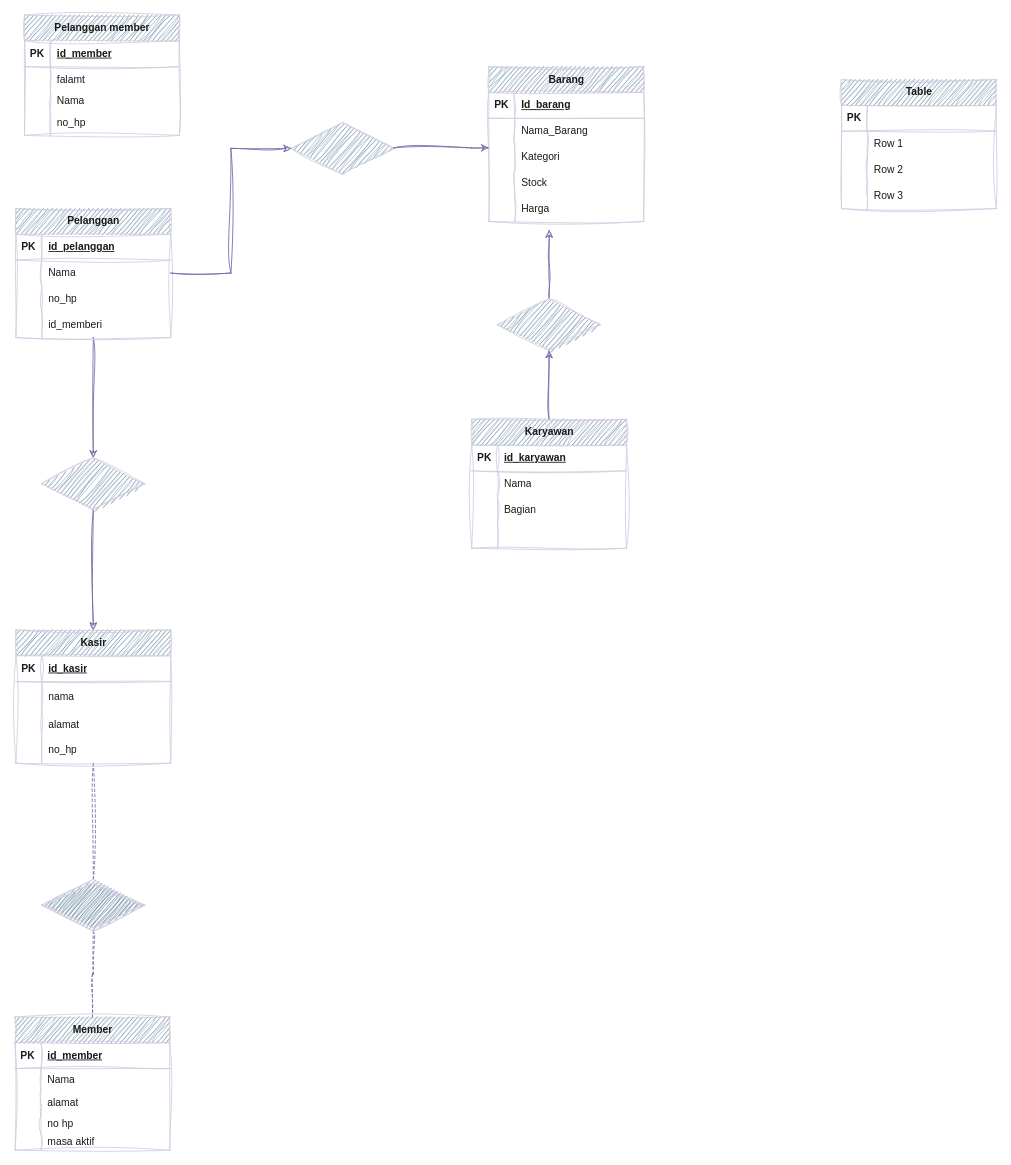
Some shapes in this 1011 by 1165 pixel diagram are drawn without their labels. Here are the shapes that lost their labels. From the top down, the centre of each, then its label:
the point at 342,148: Membeli
the point at 549,324: Mengelola
the point at 93,483: Membayar
the point at 93,904: Mendapat
